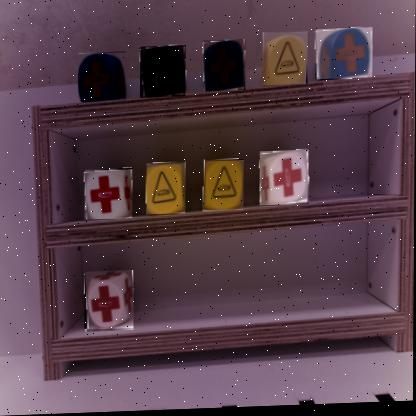CubeBlue: (317, 31, 375, 84), (79, 53, 128, 105), (141, 48, 188, 101), (204, 42, 248, 95)
CubeRed: (86, 273, 136, 334), (261, 153, 311, 209), (86, 170, 135, 222)
CubeYellow: (263, 35, 310, 90), (205, 162, 246, 215), (148, 164, 188, 218)
